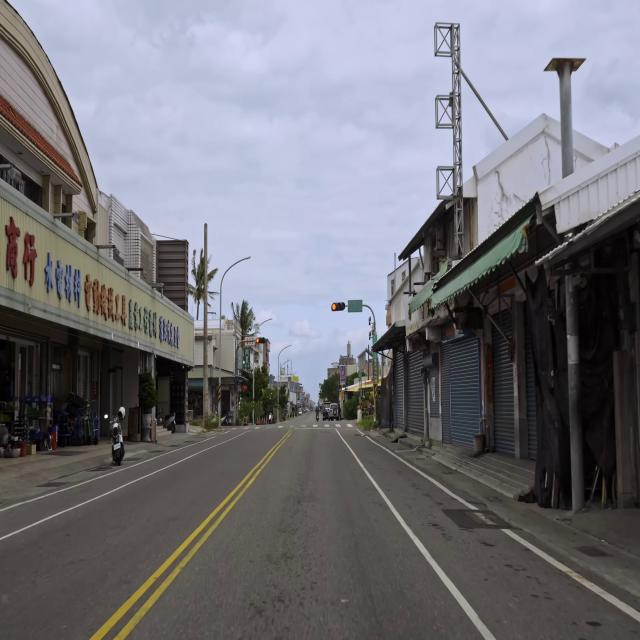red light: (331, 302, 345, 311), (256, 337, 266, 344)
